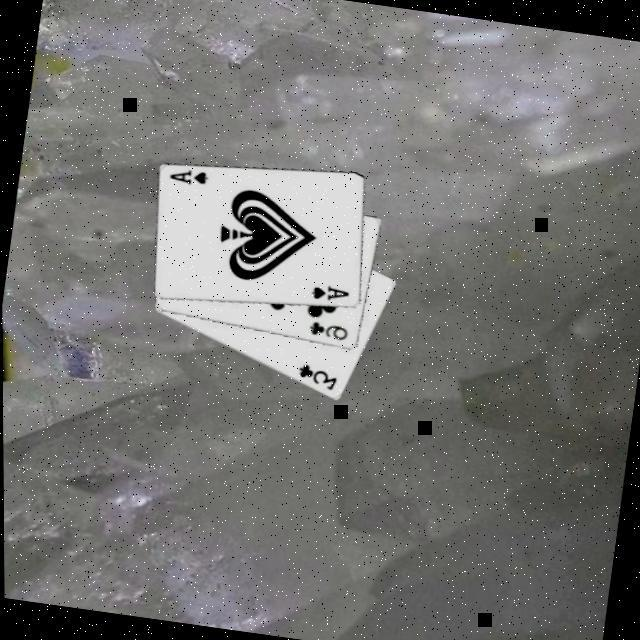3C: (291, 360, 340, 394)
9C: (303, 317, 349, 344)
AS: (164, 164, 210, 190), (306, 280, 350, 306)
